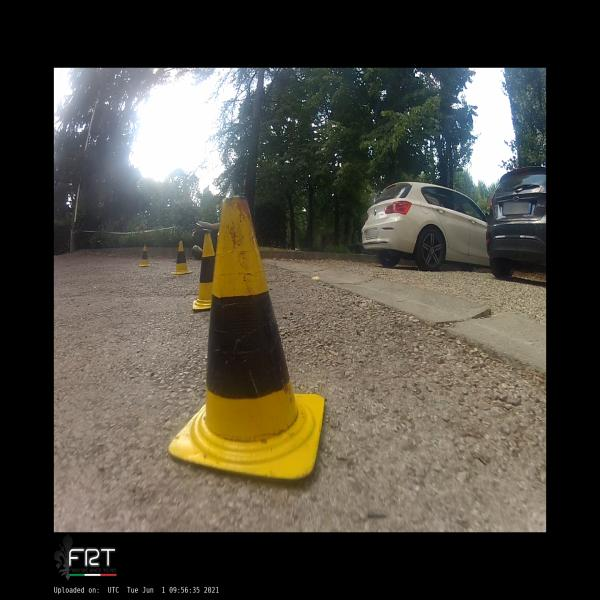yellow_cone: (168, 195, 325, 482), (192, 232, 216, 311), (171, 240, 192, 275), (138, 244, 151, 267)
